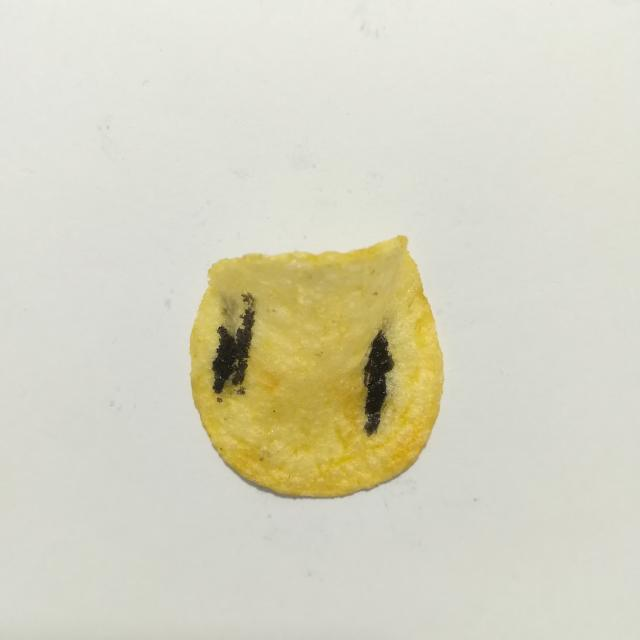chip: (190, 236, 443, 497)
damaged: (212, 294, 255, 394), (364, 329, 394, 436)
semi-damaged: (219, 293, 245, 336), (237, 386, 245, 395), (217, 397, 222, 402)
